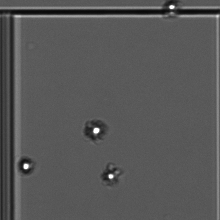Living Cell: (85, 116, 115, 147), (15, 154, 39, 183), (98, 164, 123, 187), (161, 2, 184, 22)
